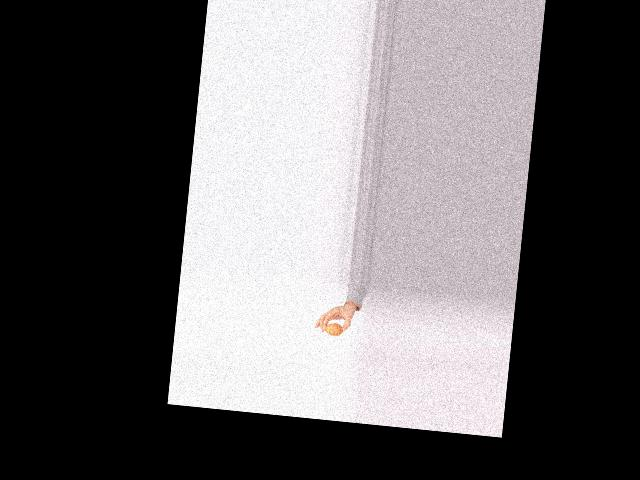egg: (324, 323, 343, 337)
